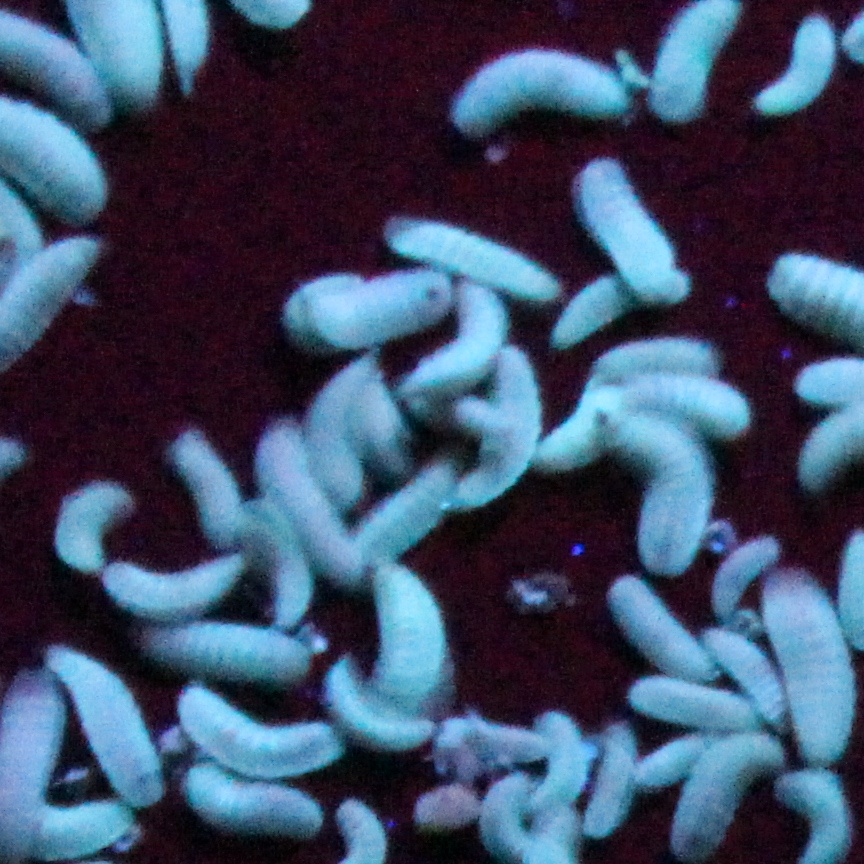larve: (52, 645, 165, 822), (767, 560, 855, 763), (575, 160, 696, 307), (260, 421, 367, 587), (438, 348, 540, 519), (609, 412, 714, 575), (170, 678, 343, 770), (453, 46, 631, 131), (282, 260, 453, 346), (394, 214, 560, 299), (406, 285, 509, 407), (184, 761, 326, 845), (377, 563, 455, 712), (616, 570, 716, 678), (653, 4, 740, 126), (326, 658, 436, 753), (314, 353, 377, 507), (357, 465, 457, 551), (167, 436, 243, 548), (101, 558, 250, 614), (757, 19, 838, 114), (628, 375, 750, 438), (623, 673, 760, 726), (57, 478, 133, 570), (550, 273, 631, 353), (543, 390, 626, 468), (704, 629, 779, 714), (255, 514, 311, 626), (592, 334, 721, 382), (709, 541, 782, 624), (531, 709, 589, 812), (635, 726, 718, 795), (453, 724, 545, 775)
